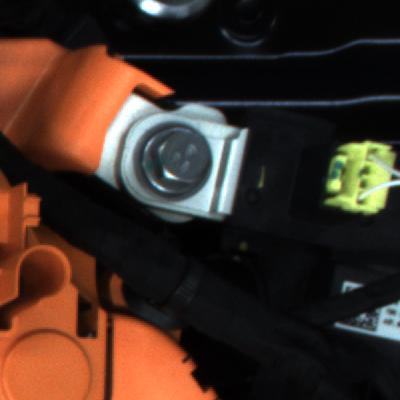nut_b: (130, 118, 222, 203)
